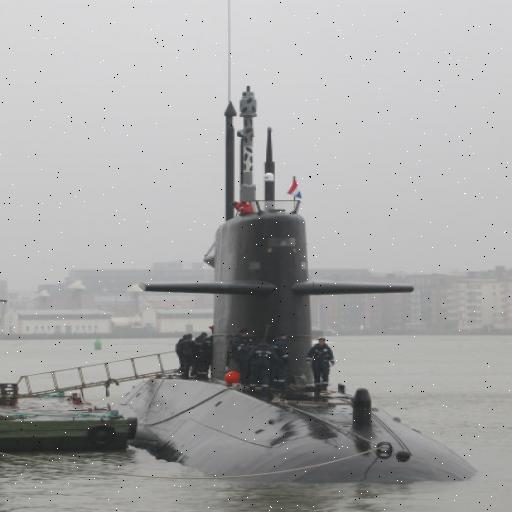submarine: (107, 75, 484, 486)
